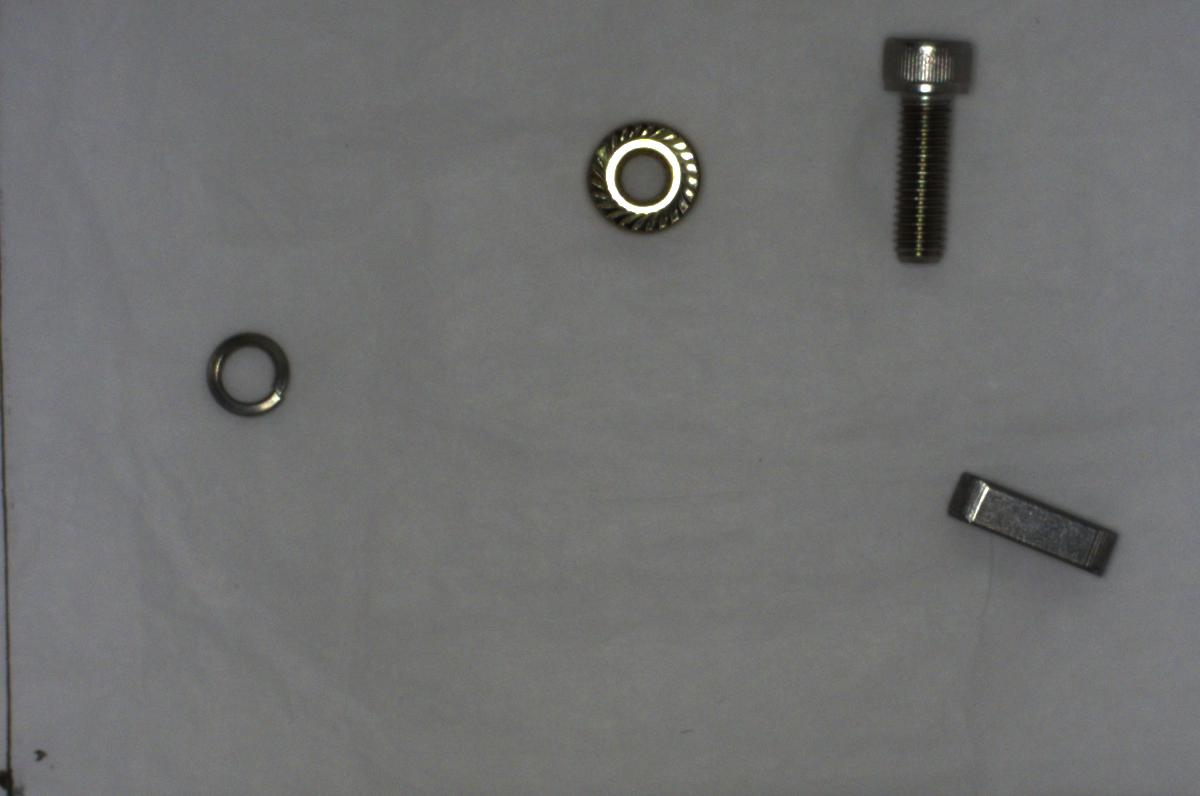Flange nut: (578, 109, 710, 240)
Hexagon screw: (866, 29, 975, 269)
Keybar: (937, 465, 1122, 583)
Spring washer: (200, 321, 299, 420)
